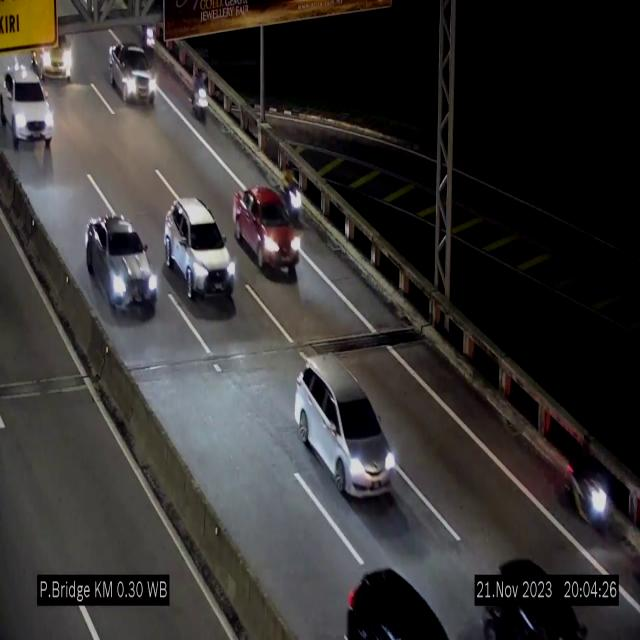Car: (295, 357, 397, 499), (85, 215, 159, 314), (163, 198, 235, 299), (232, 188, 300, 276), (0, 65, 58, 151), (108, 44, 154, 103)
Motorcycle: (567, 427, 610, 538), (280, 158, 304, 227), (191, 63, 213, 125)
